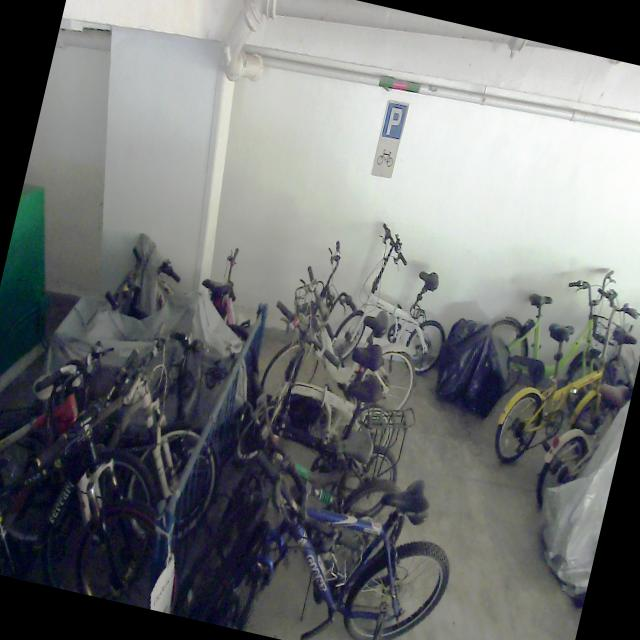bike: (0, 293, 246, 562), (171, 429, 467, 640), (0, 314, 195, 600), (214, 382, 428, 584), (259, 228, 441, 424), (234, 297, 416, 491), (488, 268, 640, 485), (468, 243, 638, 437), (328, 216, 468, 383)
